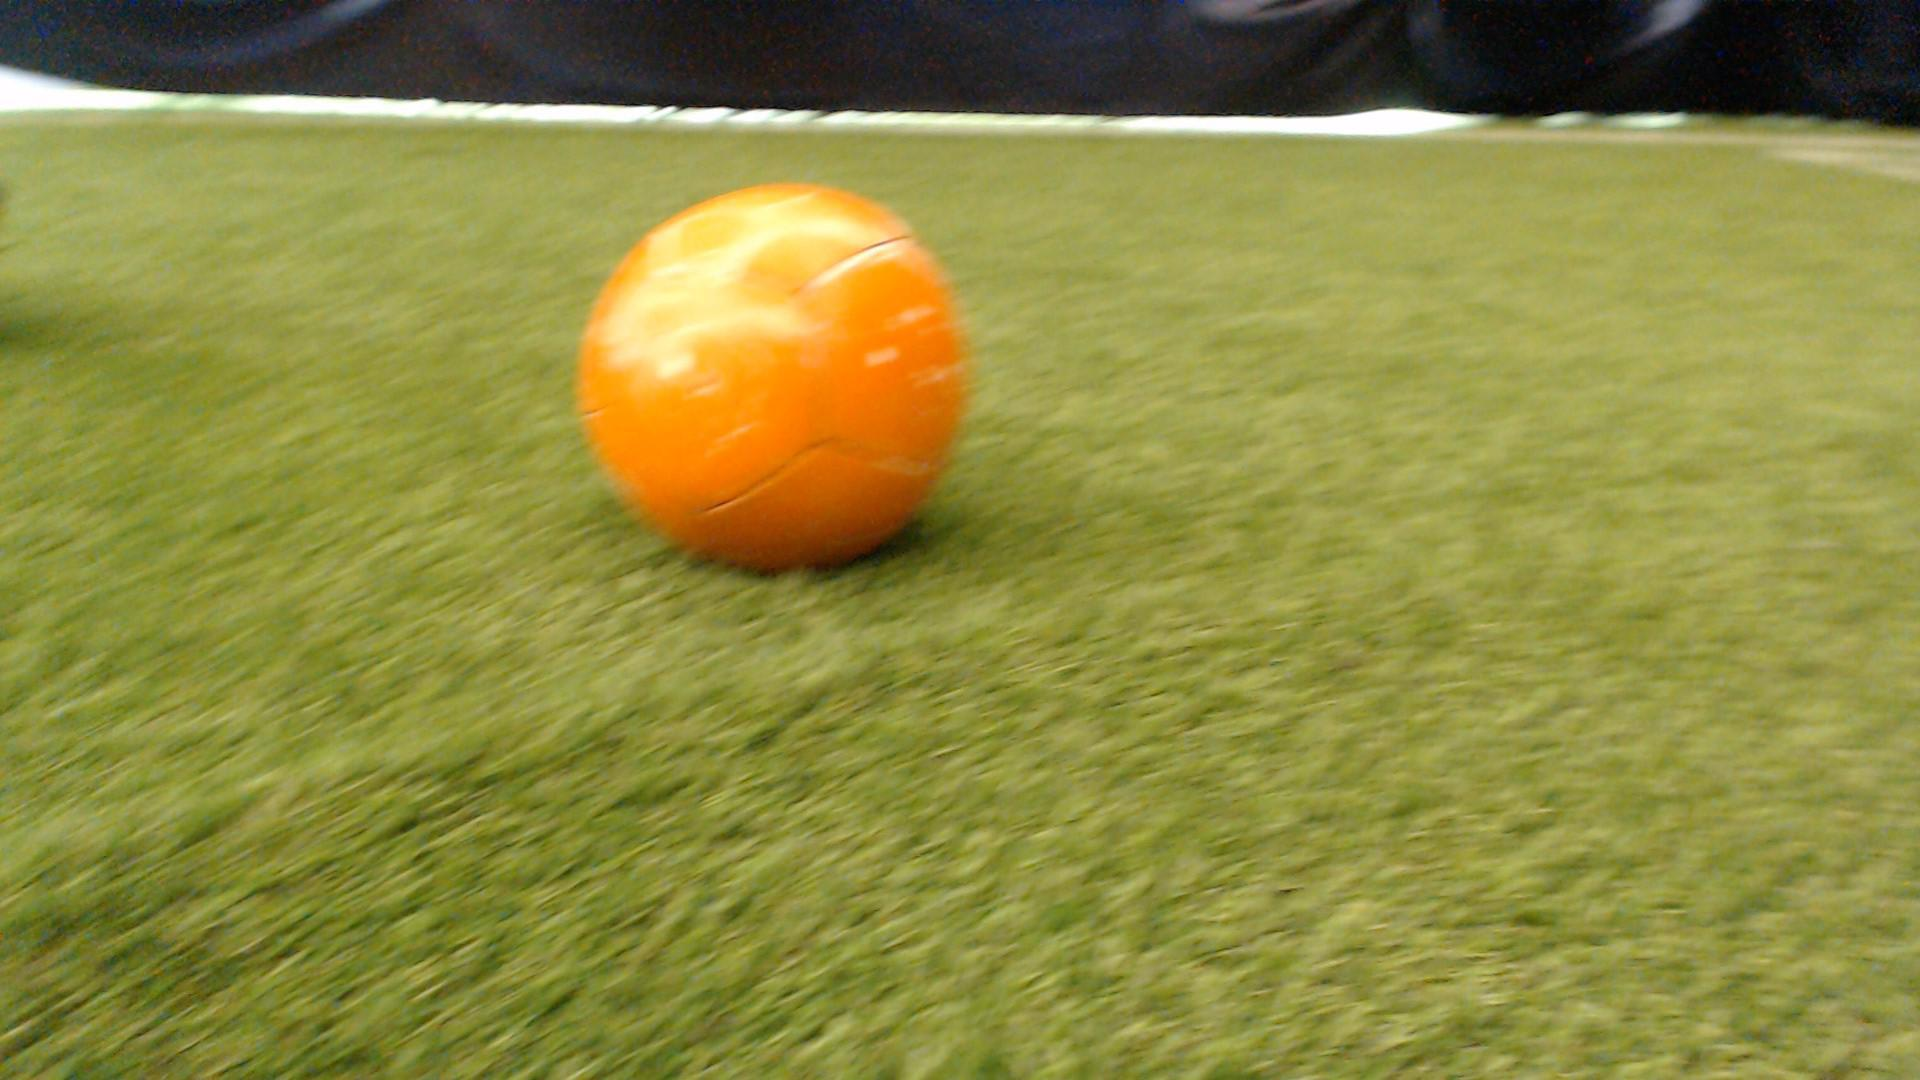bola: (527, 156, 1011, 608)
